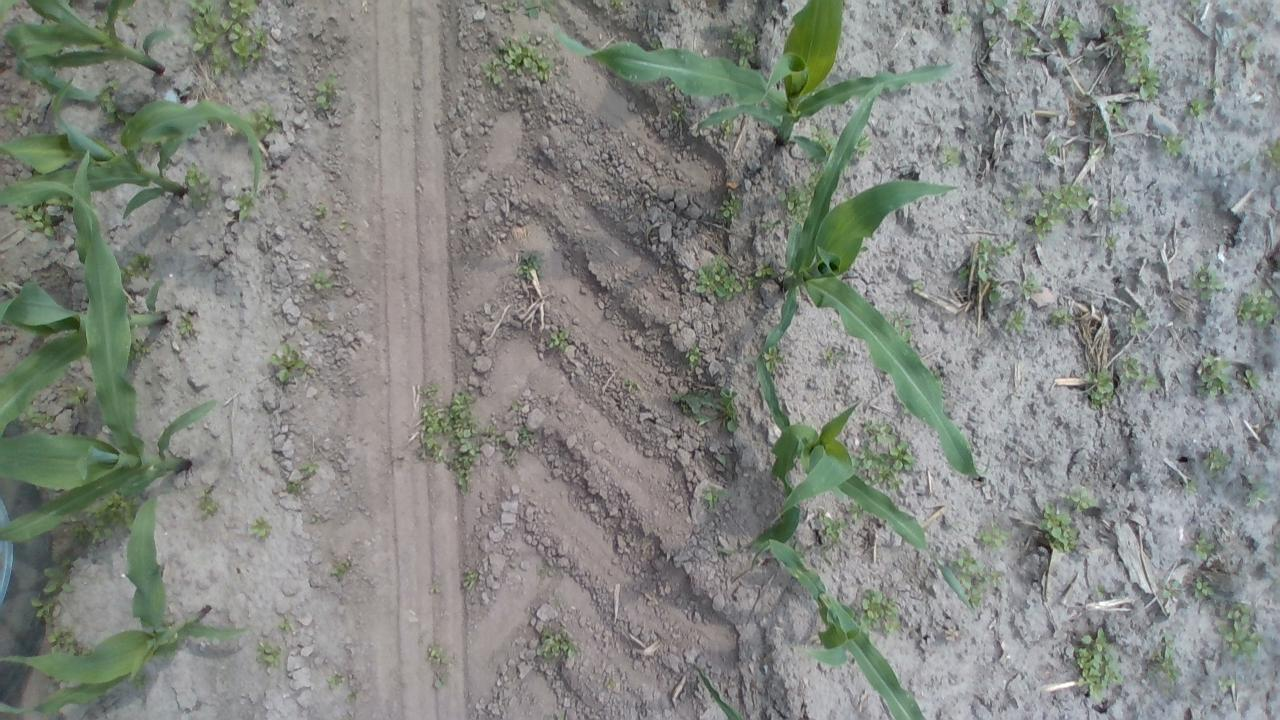Maize: (760, 77, 979, 480), (1, 181, 221, 547), (718, 342, 976, 625), (550, 0, 956, 160), (0, 490, 255, 720), (0, 148, 169, 438), (0, 100, 264, 222), (762, 532, 926, 720), (2, 0, 175, 102), (692, 663, 748, 720)
Weeds: (416, 384, 489, 500), (187, 2, 266, 74), (856, 420, 916, 491), (481, 32, 554, 87), (67, 492, 142, 544), (1074, 626, 1122, 703), (670, 386, 742, 430), (30, 556, 74, 626), (1107, 2, 1155, 63), (956, 237, 1018, 283), (1218, 602, 1262, 662), (11, 196, 73, 238), (692, 253, 744, 301), (856, 587, 900, 635), (1038, 503, 1078, 552), (267, 341, 311, 384), (1235, 286, 1280, 328), (1194, 354, 1232, 398), (1148, 632, 1180, 684), (1118, 355, 1162, 392), (779, 180, 817, 222), (961, 568, 1002, 606), (1043, 184, 1089, 213), (184, 162, 214, 205), (538, 628, 578, 660), (1086, 366, 1116, 408), (1128, 63, 1162, 100), (46, 630, 92, 657), (1026, 207, 1061, 242), (489, 424, 517, 467), (1192, 264, 1225, 300), (100, 81, 124, 126), (253, 636, 284, 670), (502, 0, 557, 19), (1049, 12, 1080, 44), (249, 105, 279, 138), (745, 262, 777, 292), (315, 71, 339, 111), (952, 550, 989, 575), (1065, 484, 1098, 512), (1008, 0, 1038, 30), (888, 312, 915, 344), (979, 522, 1010, 548), (1204, 444, 1228, 476), (125, 252, 152, 279), (728, 30, 757, 55), (1190, 532, 1214, 562), (20, 407, 54, 428), (822, 512, 844, 544), (198, 487, 220, 518), (517, 253, 542, 280), (719, 192, 742, 221), (64, 385, 90, 409), (1004, 308, 1030, 332), (236, 192, 256, 222), (1160, 132, 1185, 156), (1126, 308, 1149, 334), (1012, 35, 1036, 59), (249, 515, 273, 539), (1241, 367, 1264, 392), (1249, 480, 1270, 507), (130, 336, 150, 364), (940, 146, 962, 170), (704, 486, 726, 510), (516, 425, 538, 449), (812, 122, 832, 148), (1191, 577, 1214, 599), (1186, 96, 1209, 118), (1019, 276, 1042, 298), (310, 271, 334, 292), (326, 672, 351, 691), (764, 346, 782, 372), (1108, 99, 1124, 128), (685, 344, 704, 368), (668, 102, 687, 126), (426, 644, 448, 664), (462, 568, 481, 591), (177, 314, 195, 338), (1050, 308, 1074, 326), (1239, 39, 1259, 60), (1106, 201, 1126, 222), (130, 672, 149, 694), (985, 282, 1002, 306), (1262, 138, 1276, 167), (849, 498, 865, 523), (1000, 195, 1019, 216), (432, 668, 451, 688), (332, 558, 351, 578), (1202, 76, 1222, 95), (548, 330, 569, 348), (950, 12, 970, 30), (1016, 182, 1036, 200), (854, 134, 874, 151), (2, 105, 22, 122), (823, 349, 844, 365), (1044, 138, 1062, 156), (626, 377, 644, 395), (290, 480, 308, 498), (117, 8, 135, 26), (310, 200, 327, 219), (1102, 234, 1119, 253), (1162, 582, 1182, 598), (92, 15, 108, 35), (278, 613, 293, 634), (910, 281, 928, 297), (988, 0, 1006, 16), (537, 562, 552, 581), (298, 462, 318, 476), (761, 218, 782, 231), (1094, 582, 1109, 600), (722, 118, 734, 140), (1182, 479, 1198, 495), (340, 215, 354, 233), (1218, 676, 1236, 690), (604, 674, 618, 690), (429, 578, 441, 594), (930, 367, 944, 379), (310, 512, 322, 525), (665, 82, 677, 94), (347, 694, 359, 706), (510, 402, 522, 413), (609, 0, 623, 8), (651, 39, 662, 49), (902, 406, 911, 417), (556, 594, 564, 604)
